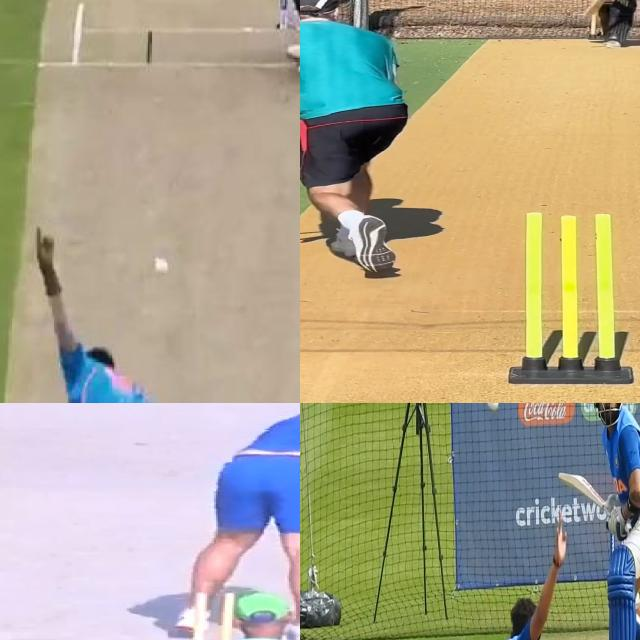Cricket ball: (153, 255, 169, 277), (485, 403, 498, 417)
